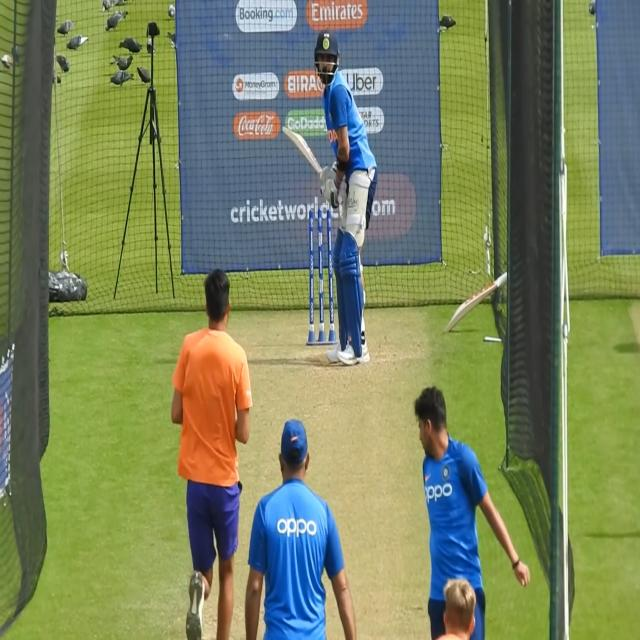stump: (307, 206, 335, 344)
